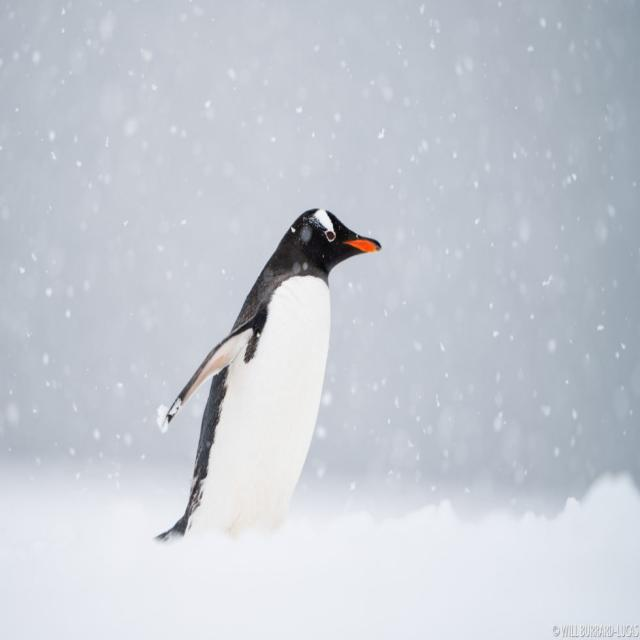Penguins: (181, 160, 360, 570)
